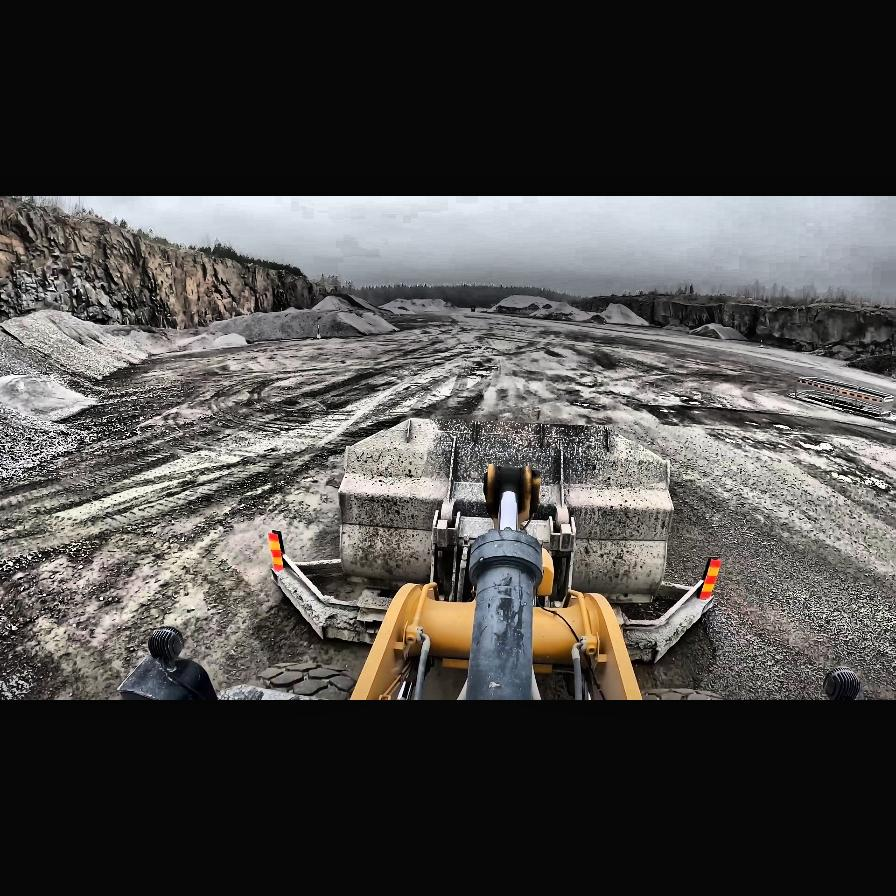anchor: (484, 463, 540, 526)
pile of gravel: (0, 309, 149, 383), (1, 387, 120, 477), (181, 298, 389, 346), (1, 372, 97, 419), (485, 296, 599, 323), (601, 301, 655, 329), (176, 330, 243, 350), (689, 323, 751, 341), (662, 324, 692, 332), (378, 306, 404, 314), (424, 305, 442, 311)
